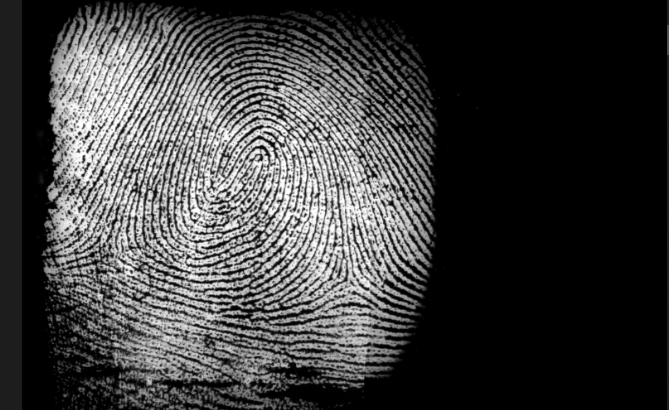nucelo: (238, 146, 273, 185)
verticilo: (332, 261, 363, 292), (93, 232, 124, 260)
